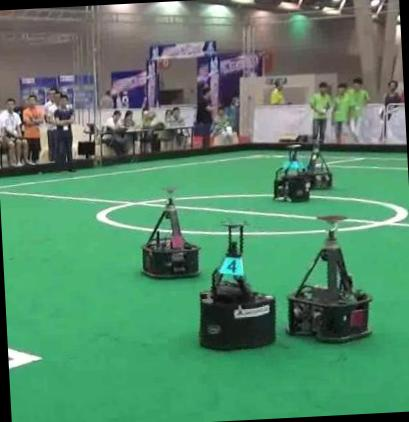person: (53, 95, 73, 170)
robot: (287, 217, 371, 342), (198, 225, 274, 349), (141, 188, 198, 278), (272, 146, 309, 201), (306, 139, 331, 189)
